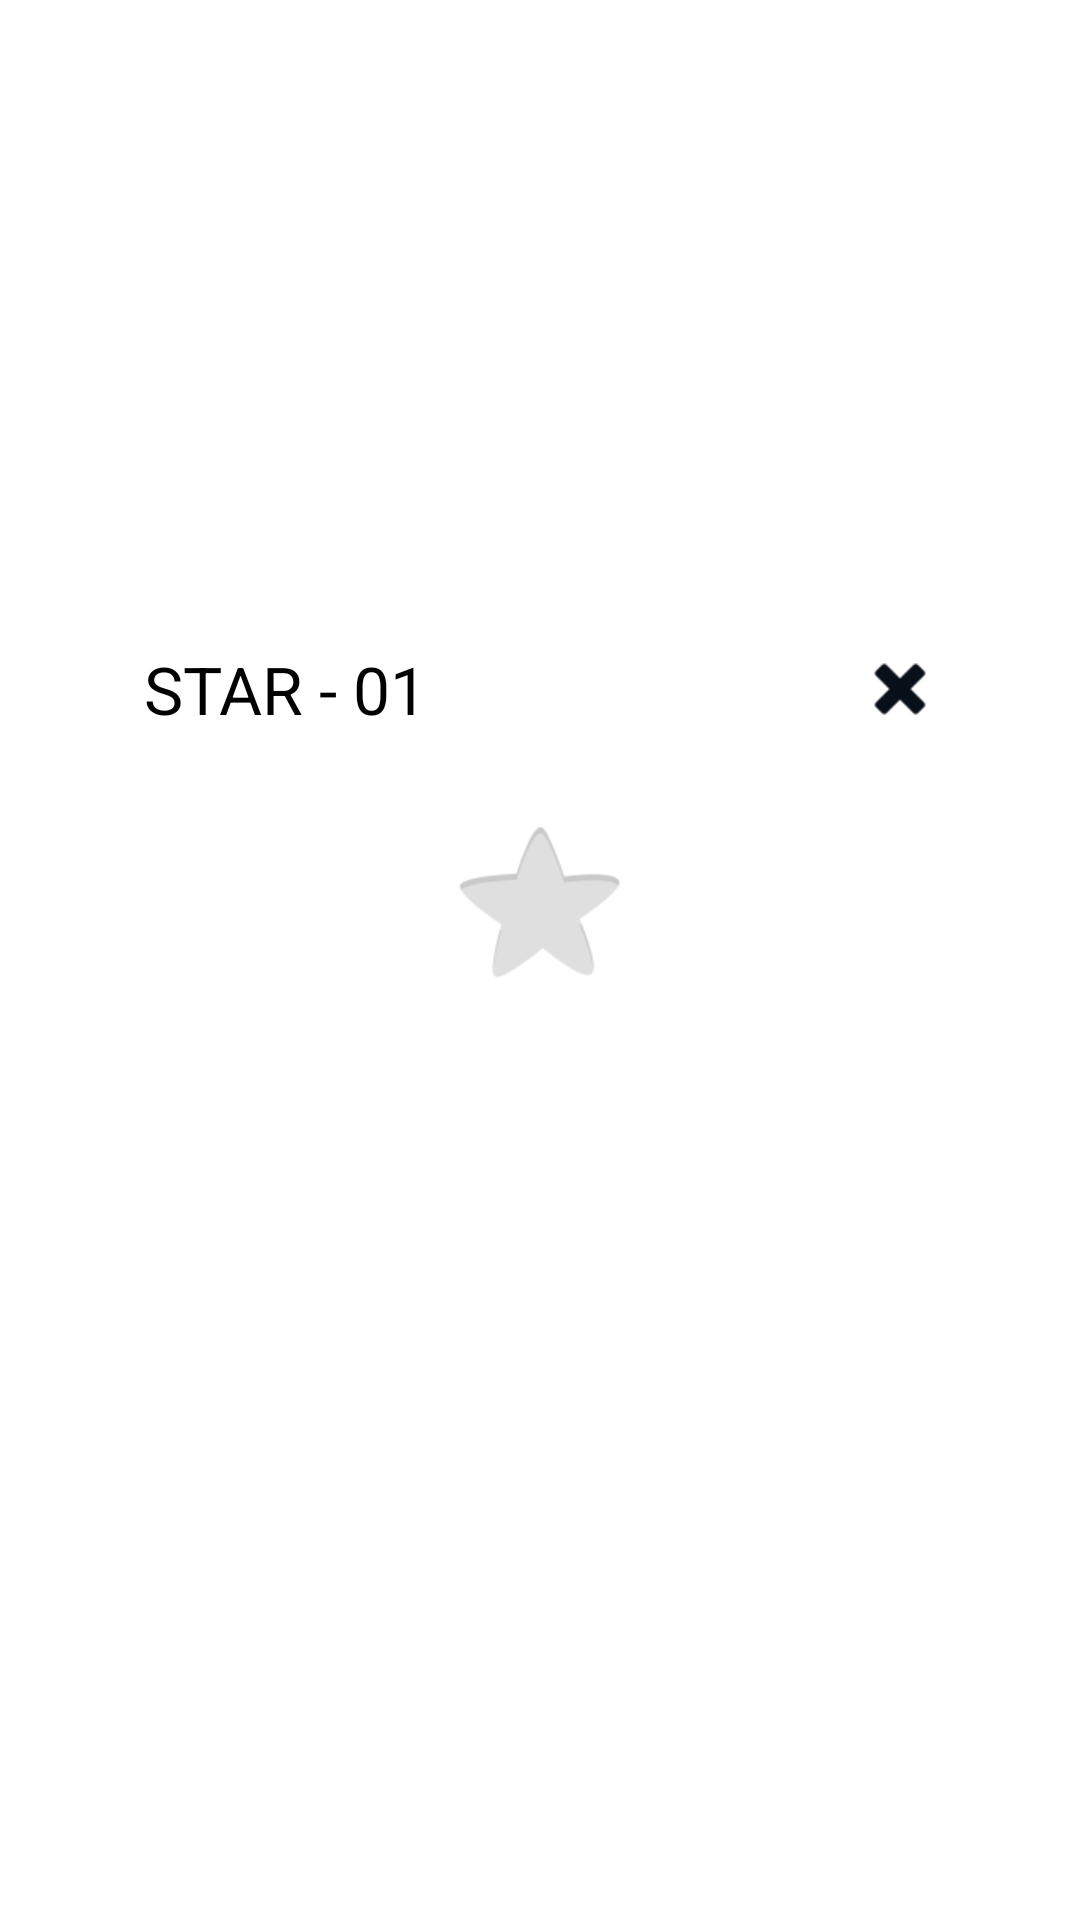

Icon click points for this 1080 × 1920 phone screenshot, format (x,y):
pop close: (900,689)
